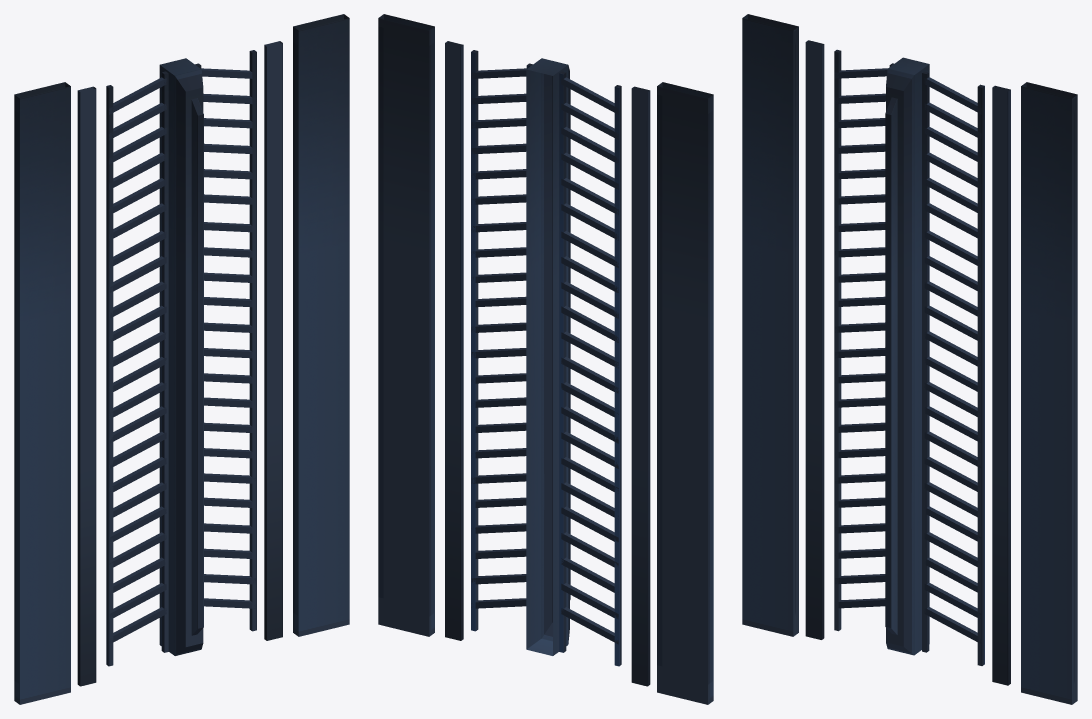
The model's file is back_ele.fbx.
3 renders of one model, left to right at view 1: azimuth 30°, elevation 25°; view 2: azimuth 150°, elevation 25°; view 3: azimuth 330°, elevation 25°, orthographic.
Parts seen in each view (by area): view 1: pCube47; view 2: pCube47; view 3: pCube47.
Boxes of the visible parts, bbox=[...] form: pCube47: bbox=[14, 14, 349, 704]; pCube47: bbox=[378, 14, 713, 704]; pCube47: bbox=[742, 14, 1077, 704].
Size of the model in its own units: 72.5 by 127 by 10.67.
